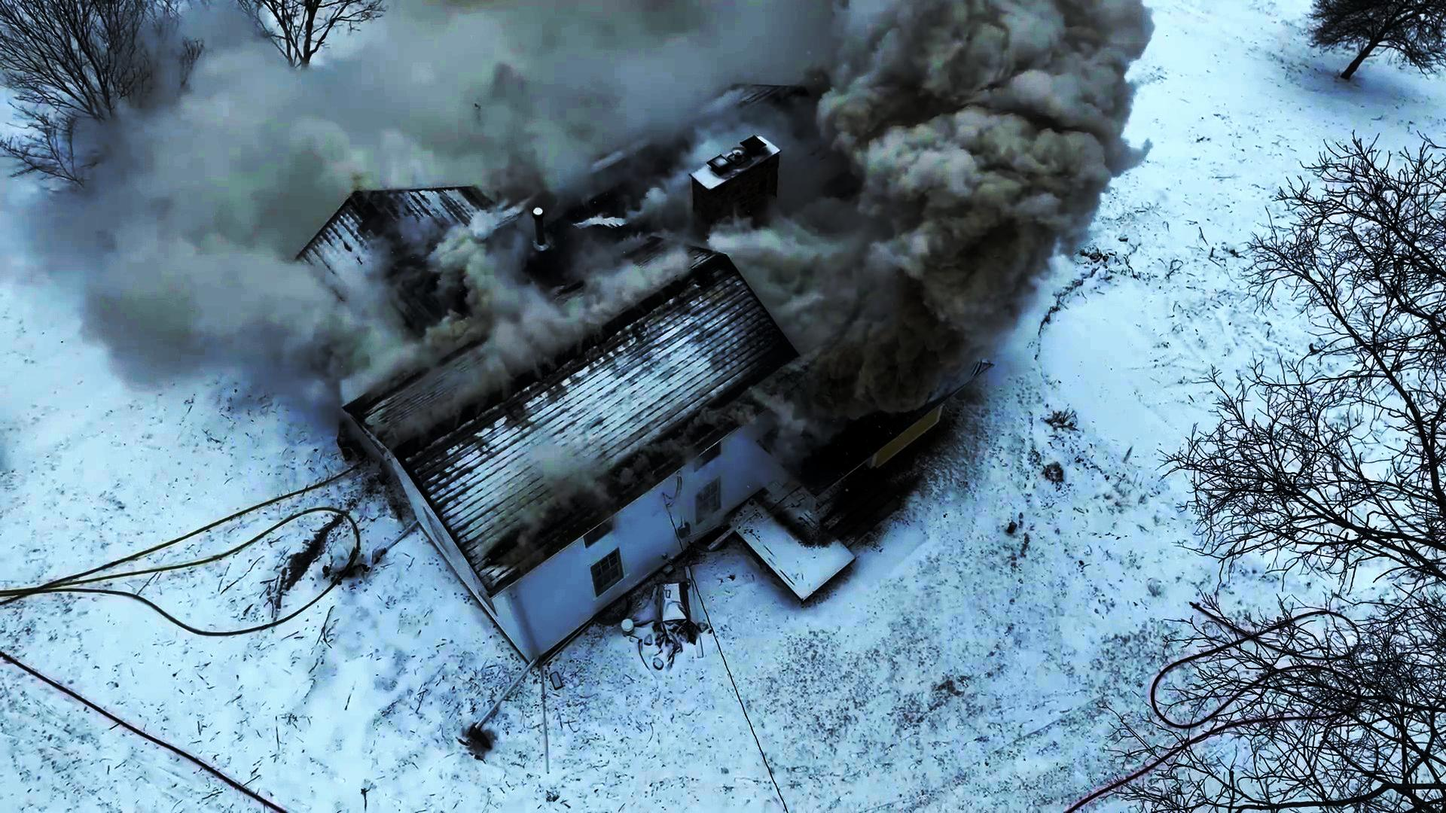smoke: (827, 19, 1120, 244), (793, 254, 987, 416)
